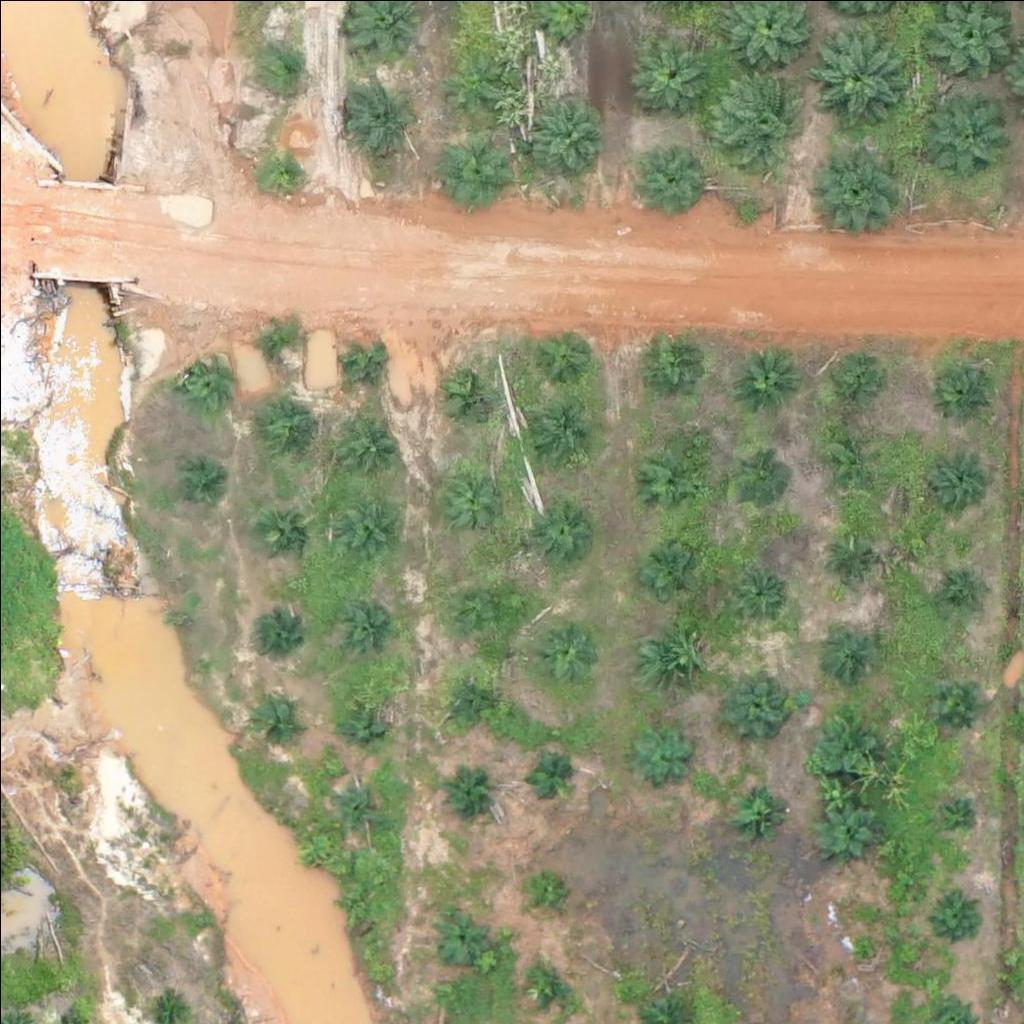Kelapa_Sawit: (705, 67, 805, 167), (810, 34, 910, 134), (808, 145, 896, 233), (521, 90, 608, 178), (626, 33, 713, 121), (929, 89, 1016, 177), (343, 80, 418, 156), (633, 135, 708, 211), (451, 566, 514, 629), (336, 590, 399, 653), (728, 773, 791, 836), (724, 673, 787, 736), (737, 346, 800, 409), (338, 493, 401, 556), (928, 363, 991, 426), (641, 448, 704, 511), (643, 341, 706, 404), (727, 441, 790, 504), (531, 324, 594, 387), (442, 143, 505, 206), (251, 397, 314, 460), (337, 412, 400, 475), (814, 797, 877, 860), (641, 534, 703, 597), (530, 619, 592, 682), (631, 721, 693, 784), (528, 402, 590, 465), (816, 428, 878, 491), (531, 498, 593, 561), (437, 47, 499, 110), (442, 460, 504, 523), (437, 362, 499, 425), (252, 502, 314, 565), (813, 708, 875, 771), (635, 621, 697, 684), (821, 347, 883, 409), (925, 442, 987, 504), (337, 339, 387, 390), (251, 318, 301, 369), (930, 890, 980, 941), (525, 960, 575, 1011), (930, 553, 980, 603), (828, 621, 878, 671), (820, 528, 870, 578), (737, 565, 787, 615), (934, 681, 984, 731), (248, 604, 298, 654), (441, 773, 491, 823), (523, 748, 573, 798), (334, 778, 384, 828), (435, 909, 485, 959), (338, 693, 388, 743), (252, 694, 302, 744), (180, 353, 230, 403), (170, 458, 220, 508), (258, 145, 308, 195), (262, 38, 312, 88), (444, 669, 494, 719), (930, 789, 980, 839), (338, 883, 376, 921), (526, 872, 564, 910)
